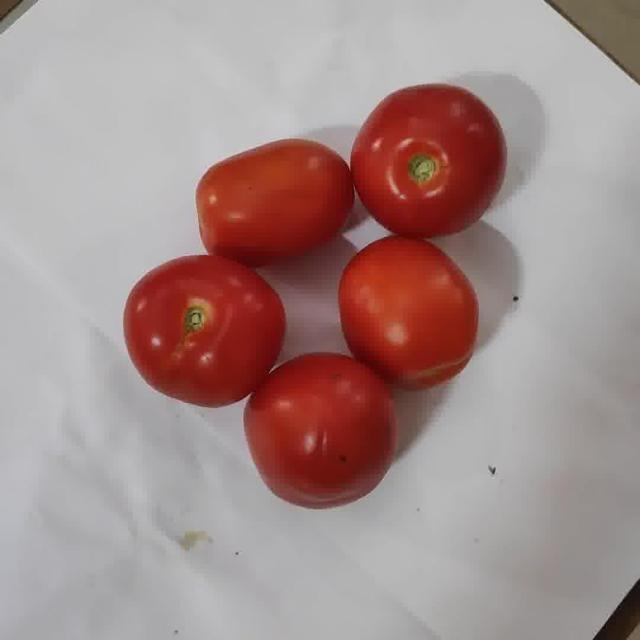Tomato: (124, 255, 284, 406), (350, 84, 506, 238), (244, 353, 395, 508), (339, 236, 478, 388), (196, 139, 354, 267)
